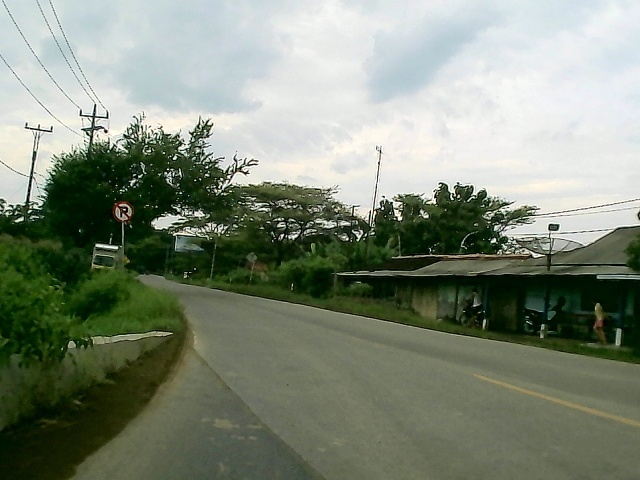Dilarang parkir: (110, 200, 136, 225)
